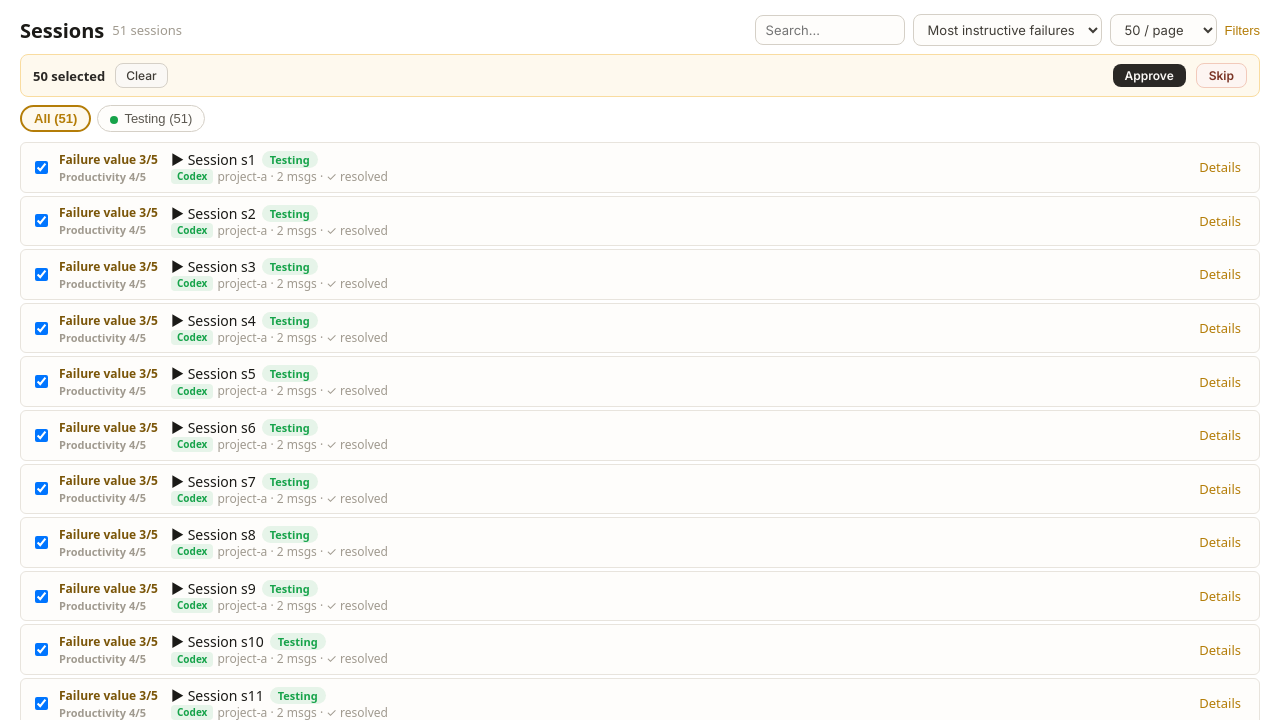
Test: Inbox bulk status updates › keeps new rows unselected after Clear opts out of automatic selection
This screenshot has width=1280, height=720.
Step 1. Click the button "Clear" → {"x": 142, "y": 76}, box [115,63,168,88]
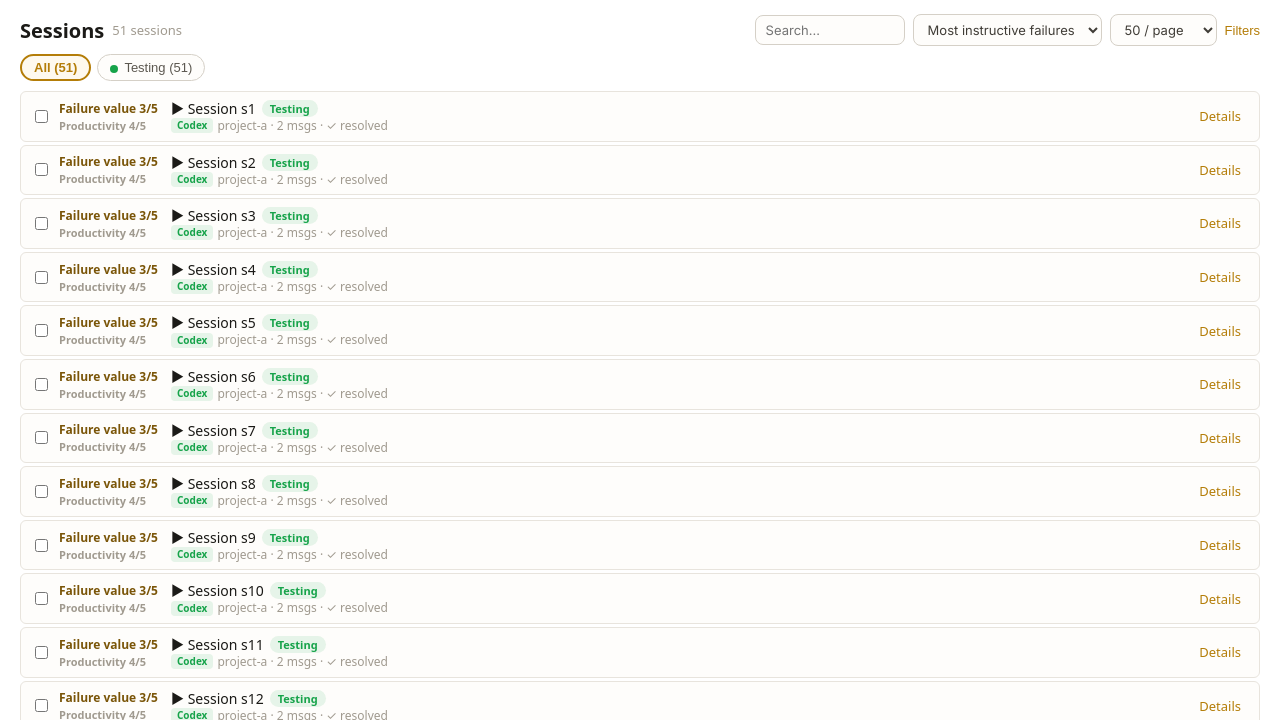
Step 2. Click the checkbox named "Select session: Session s1" → {"x": 42, "y": 116}, box [35,110,48,123]
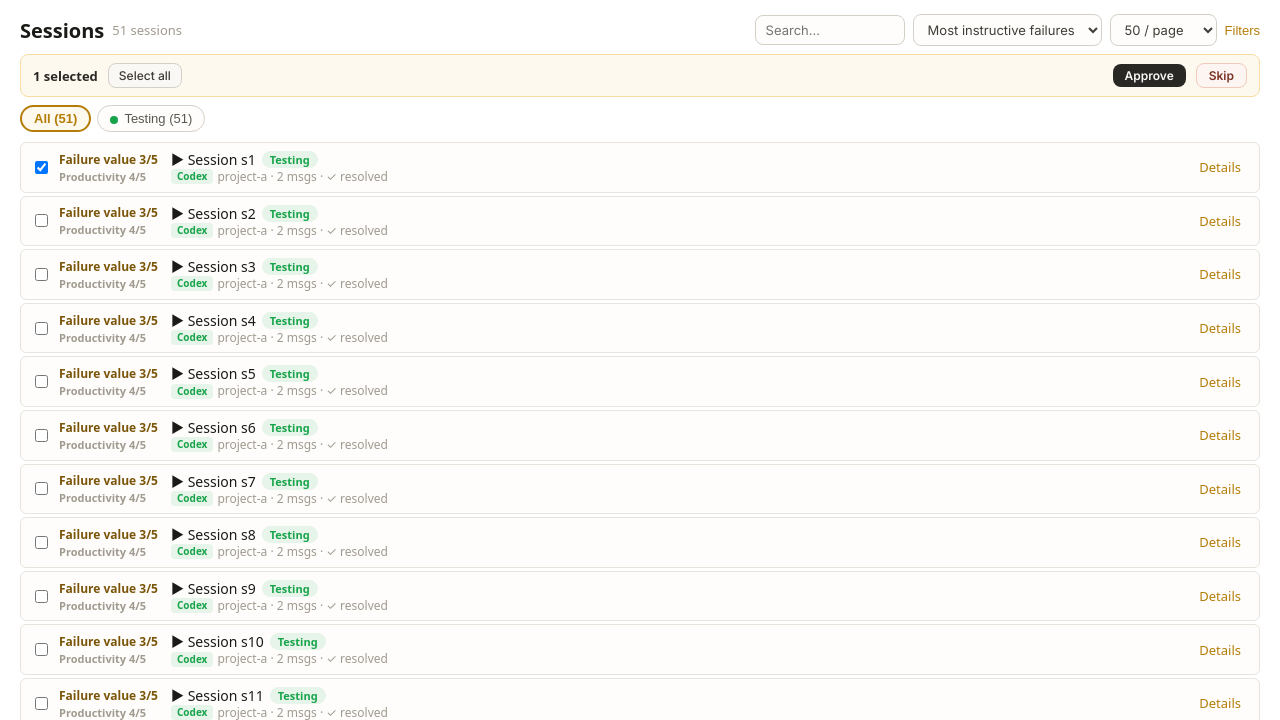
Result: the text "1 selected" is shown at [33,66,98,84]
Step 3. Click the button "Approve" → {"x": 1149, "y": 76}, box [1112,64,1186,87]
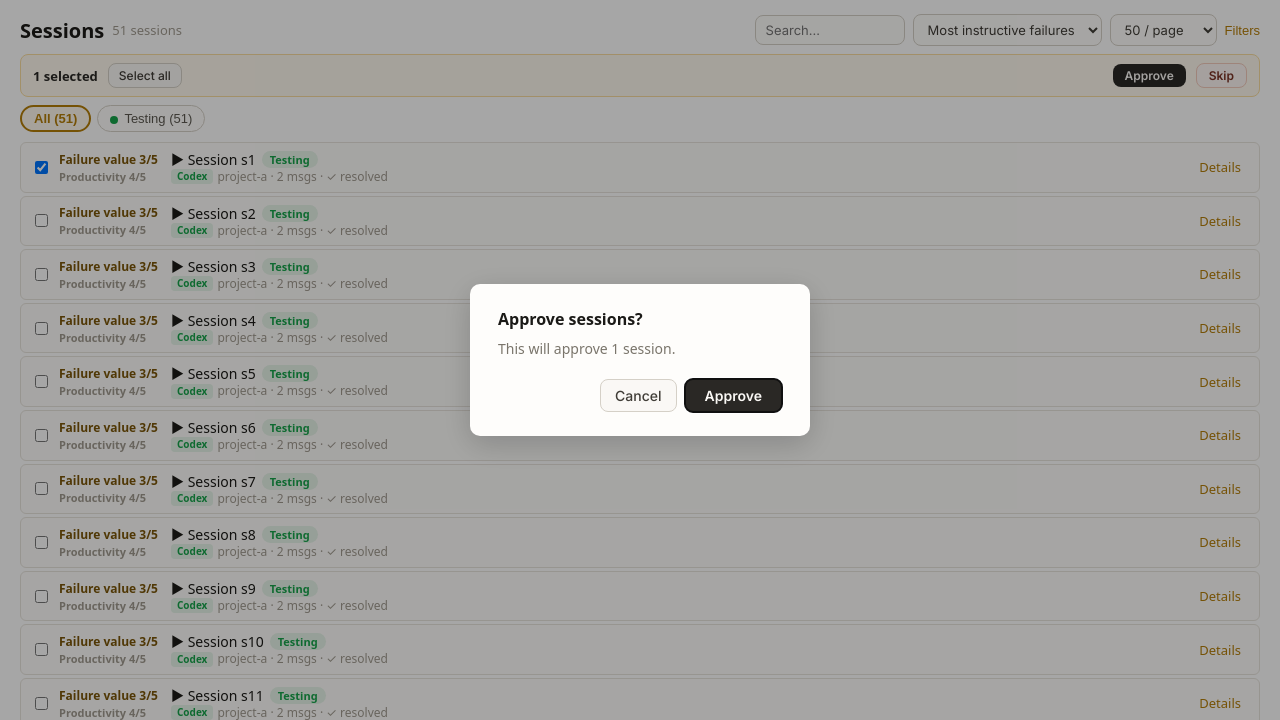
Step 4. Click the button "Approve" → {"x": 733, "y": 396}, box [685,379,782,412]
(page scrolled)
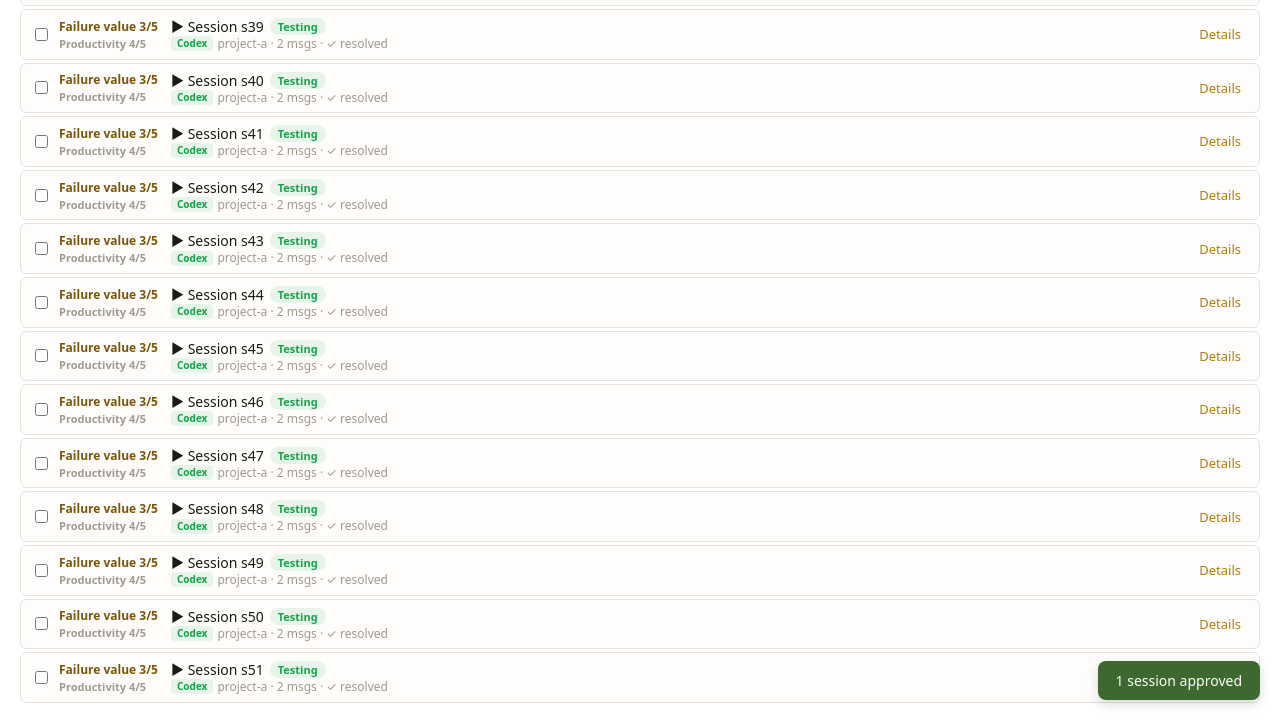
Result: the checkbox named "Select session: Session s51" is not checked at [35,671,48,684]
Result: the text "selected" is gone
